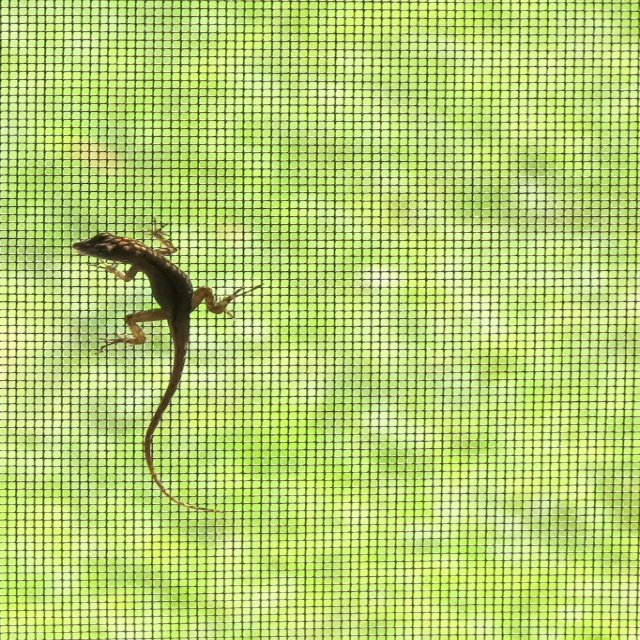Lizard: (78, 211, 246, 514)
